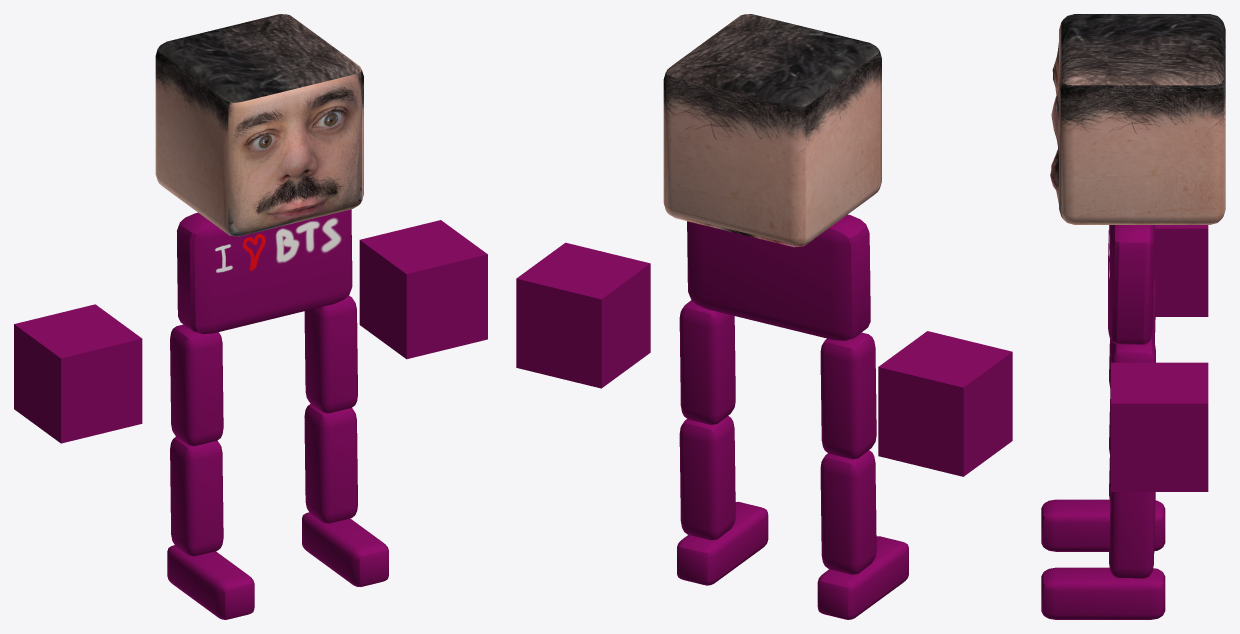
Rendered from andregalleti.glb.
3 views of the same model, side by side, from view 1: azimuth 30°, elevation 25°; view 2: azimuth 150°, elevation 25°; view 3: azimuth 270°, elevation 25° (orthographic). The views are drawn at different scales.
Visible parts, largest first — view 1: Cube, Cubo; view 2: Cube, Cubo; view 3: Cube, Cubo.
Boxes of the visible parts, box(x1,y1,x2,y2) form: Cube: box(14, 209, 487, 619); Cubo: box(155, 14, 363, 236); Cube: box(516, 214, 1012, 619); Cubo: box(663, 14, 881, 247); Cube: box(1041, 225, 1208, 619); Cubo: box(1050, 14, 1225, 224).
Size of the model in its own units: 2.09 by 2.42 by 0.7544.
Materials: 2 (2 with a texture image).
